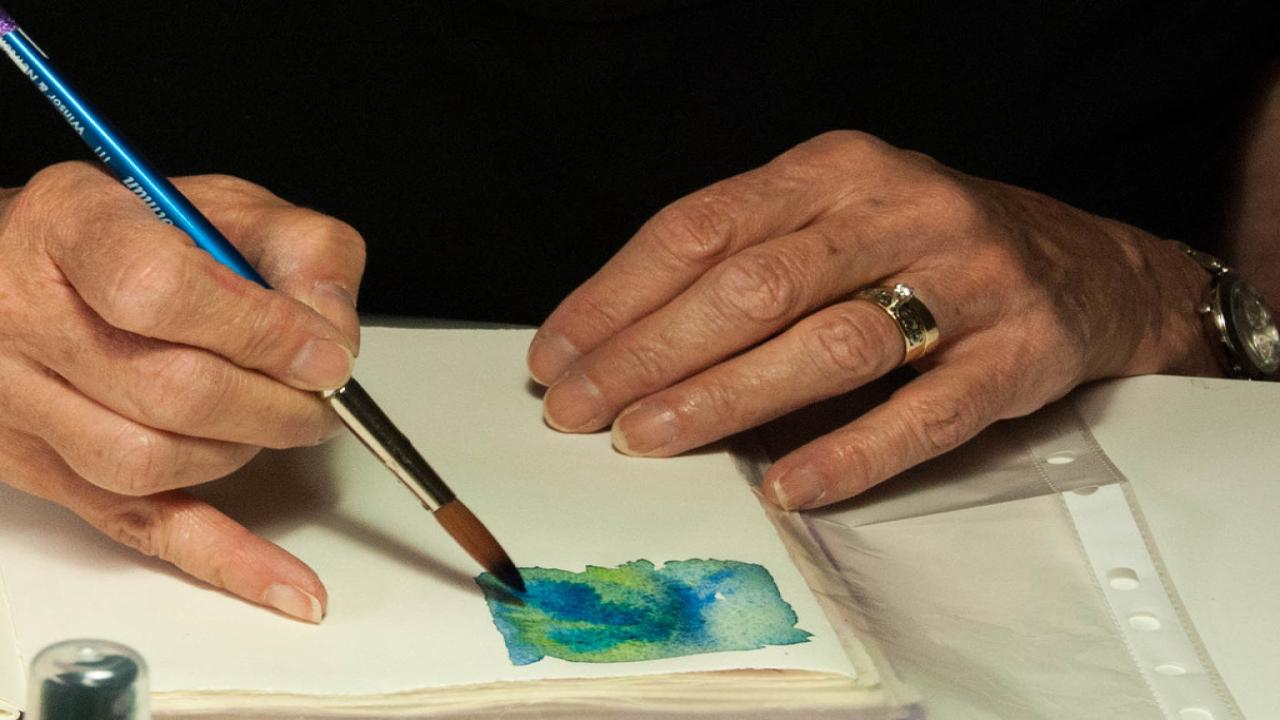ring: (848, 279, 942, 364)
